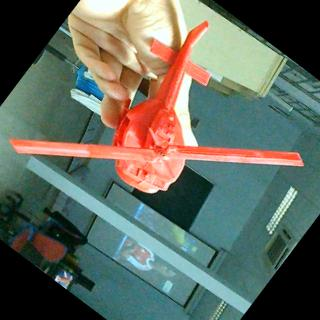Helicopter: (5, 0, 320, 295)
